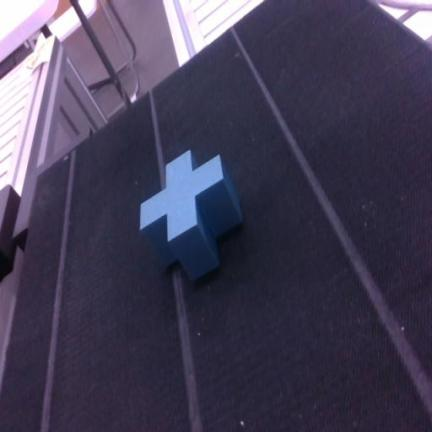cross: (141, 152, 242, 279)
